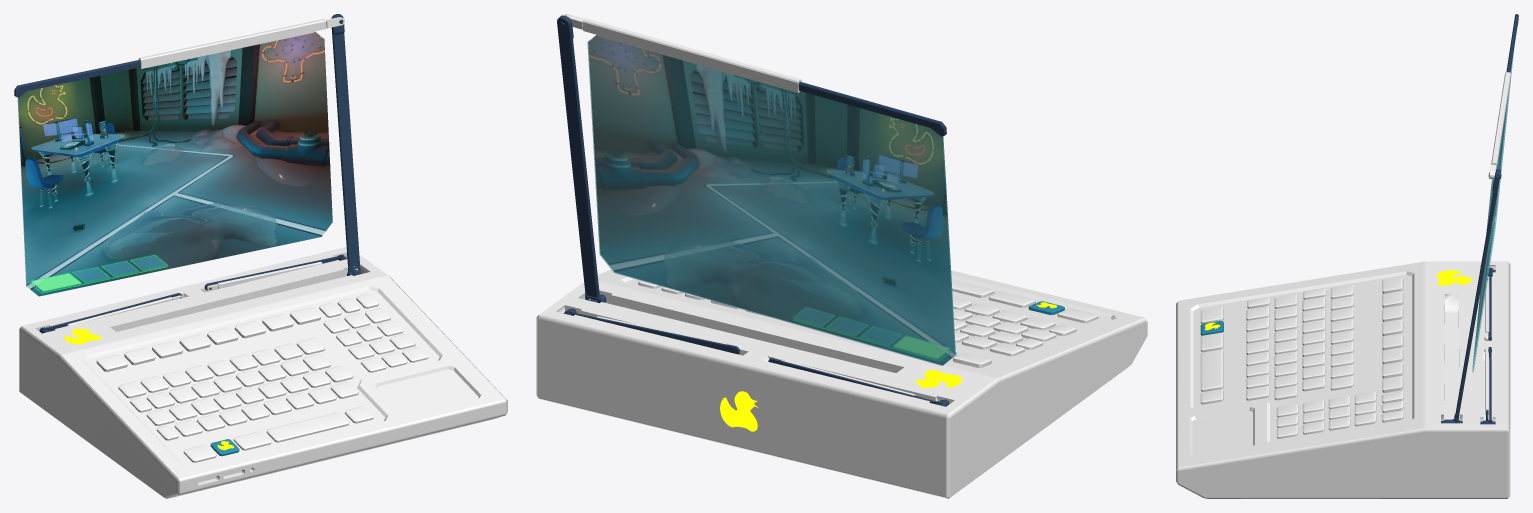
The model's file is Misc_Duckputer_C.glb.
3 views of the same model, side by side, from view 1: azimuth 30°, elevation 25°; view 2: azimuth 150°, elevation 25°; view 3: azimuth 270°, elevation 25° (orthographic). The views are drawn at different scales.
Parts seen in each view (by area): view 1: Misc_Duckputer_C.001; view 2: Misc_Duckputer_C.001; view 3: Misc_Duckputer_C.001.
Part boxes in pixels (x1=…): Misc_Duckputer_C.001: x1=14, y1=14, x2=507, y2=498; Misc_Duckputer_C.001: x1=536, y1=14, x2=1147, y2=498; Misc_Duckputer_C.001: x1=1176, y1=14, x2=1518, y2=498.
Size of the model in its own units: 0.33 by 0.2915 by 0.2822.
8 materials, 1 textured.
